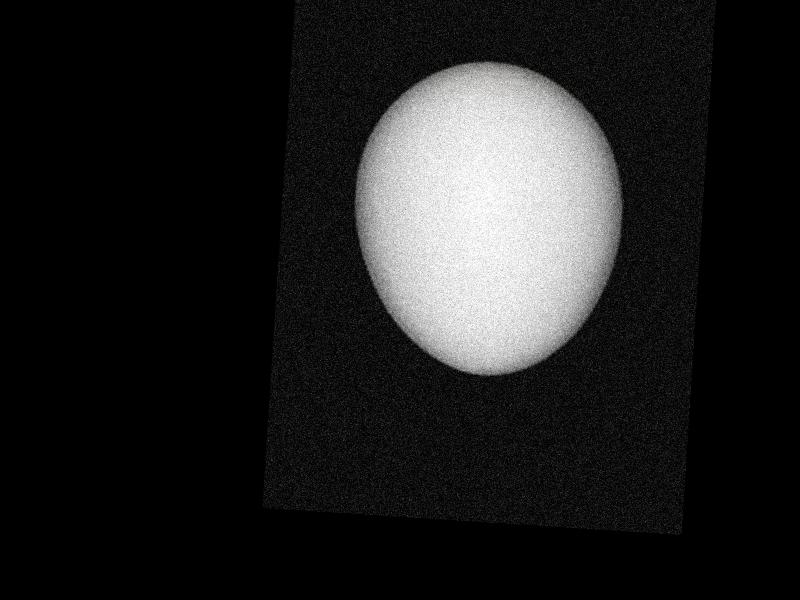Eggs: (345, 55, 631, 380)
